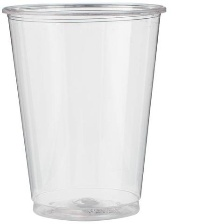glass: (0, 1, 173, 223)
